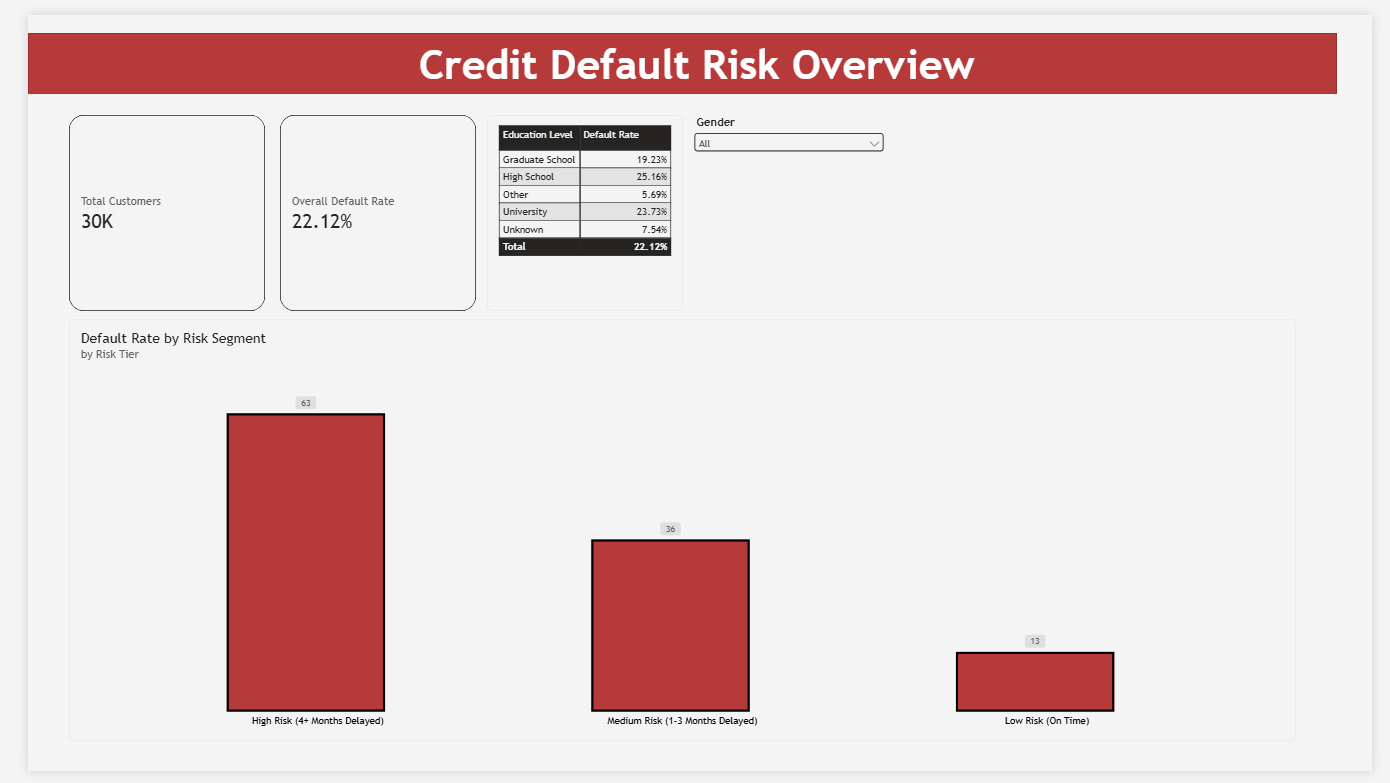

What the dashboard file says about the page in this screenshot:
{"tool":"powerbi","page":{"name":"Page 1","canvas":[1920,1080],"ordinal":0},"visuals":[{"type":"cardVisual","fields":{"Data":["Sum(credit_risk_portfolio vw_risk_summary.total_customers)"]},"box":[58.6,142.9,280,280],"z":0},{"type":"clusteredColumnChart","fields":{"Category":["credit_risk_portfolio vw_risk_summary.risk_tier"],"Y":["Sum(credit_risk_portfolio vw_risk_summary.default_rate_percentage)"]},"box":[58.6,434.3,1752.9,602.9],"z":1000},{"type":"pivotTable","fields":{"Rows":["credit_risk_portfolio customer_risk_profiles.Education Level"],"Values":["Avg(credit_risk_portfolio customer_risk_profiles.default_payment_next_month)"]},"box":[655.7,142.9,280,280],"z":2000},{"type":"slicer","fields":{"Values":["credit_risk_portfolio customer_risk_profiles.Gender"]},"box":[947.1,142.9,280,68.6],"z":3000},{"type":"cardVisual","fields":{"Data":["Avg(credit_risk_portfolio customer_risk_profiles.default_payment_next_month)"]},"box":[360,142.9,280,280],"z":4000},{"type":"shape","box":[0,25.7,1870,87.1],"z":5000},{"type":"textbox","box":[558.6,35.7,801.4,68.6],"z":6000}]}

Visuals, with their boxes in screenshot pixels (x1, y1, x2, y2), scaled from the page's 1920x1080 canvas onto the 1390x783 screenshot:
cardVisual - Sum(credit_risk_portfolio vw_risk_summary.total_customers): Rect(42, 104, 245, 307)
clusteredColumnChart - credit_risk_portfolio vw_risk_summary.risk_tier x Sum(credit_risk_portfolio vw_risk_summary.default_rate_percentage): Rect(42, 315, 1311, 752)
pivotTable - credit_risk_portfolio customer_risk_profiles.Education Level x Avg(credit_risk_portfolio customer_risk_profiles.default_payment_next_month): Rect(475, 104, 677, 307)
slicer - credit_risk_portfolio customer_risk_profiles.Gender: Rect(686, 104, 888, 153)
cardVisual - Avg(credit_risk_portfolio customer_risk_profiles.default_payment_next_month): Rect(261, 104, 463, 307)
shape: Rect(0, 19, 1354, 82)
textbox: Rect(404, 26, 985, 76)
